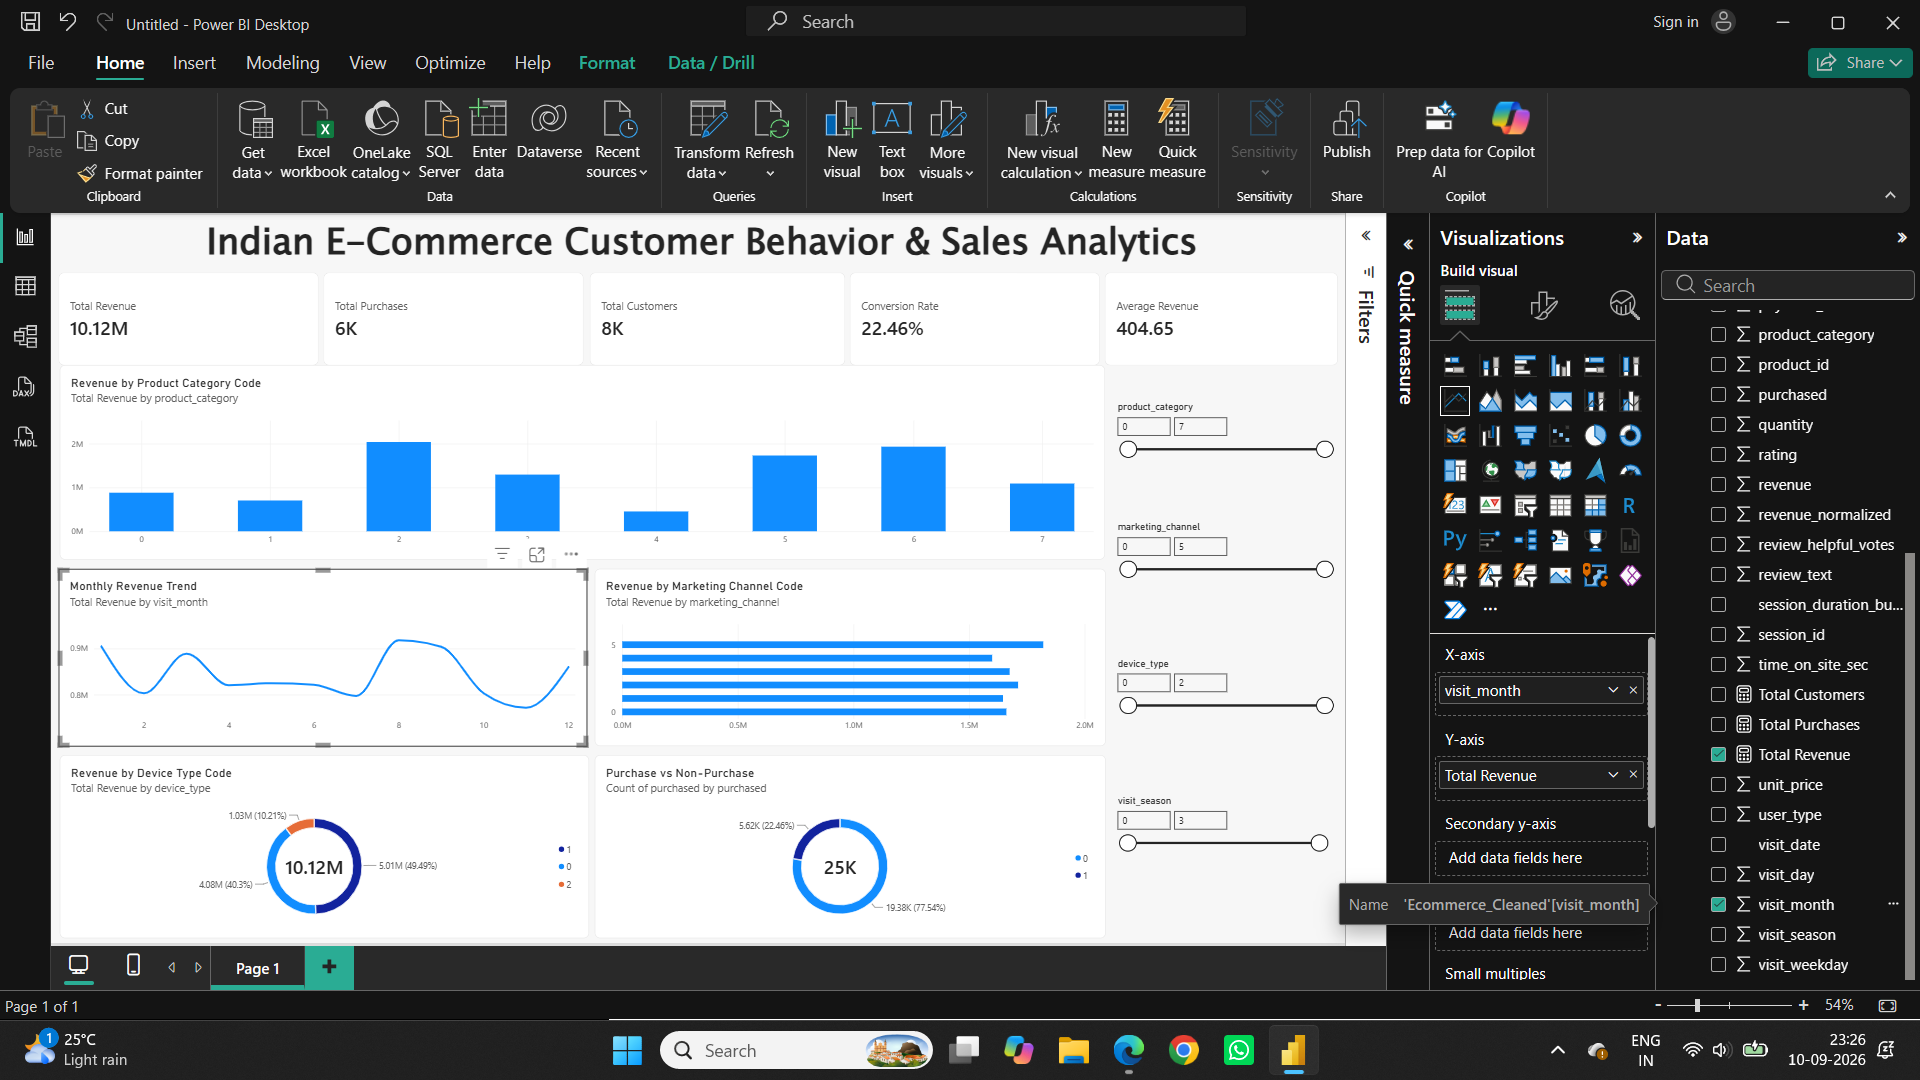

Layout of this report page (visuals, bound fields, positions):
{"tool":"powerbi","page":{"name":"Page 1","canvas":[1920,1080],"ordinal":0},"visuals":[{"type":"textbox","box":[10.3,0,1910.1,84.4],"z":0},{"type":"cardVisual","fields":{"Data":["Ecommerce_Cleaned.Total Revenue"]},"box":[11,84.7,386.5,138],"z":1000},{"type":"cardVisual","fields":{"Data":["Ecommerce_Cleaned.Total Purchases"]},"box":[404.9,84.7,386.5,138],"z":2000},{"type":"cardVisual","fields":{"Data":["Ecommerce_Cleaned.Total Customers"]},"box":[798.8,84.7,379.1,138],"z":3000},{"type":"cardVisual","fields":{"Data":["Ecommerce_Cleaned.Conversion Rate"]},"box":[1185.3,84.7,371.8,138],"z":4000},{"type":"cardVisual","fields":{"Data":["Ecommerce_Cleaned.Average Revenue"]},"box":[1564.4,84.7,346,138],"z":5000},{"type":"clusteredColumnChart","title":"Revenue by Product Category Code","fields":{"Category":["Ecommerce_Cleaned.product_category"],"Y":["Ecommerce_Cleaned.Total Revenue"]},"box":[12.9,222.7,1551.5,289],"z":6000},{"type":"lineChart","title":"Monthly Revenue Trend","fields":{"Category":["Ecommerce_Cleaned.visit_month"],"Y":["Ecommerce_Cleaned.Total Revenue"]},"box":[11,524.5,784.1,263.2],"z":7000},{"type":"barChart","title":"Revenue by Marketing Channel Code","fields":{"Category":["Ecommerce_Cleaned.marketing_channel"],"Y":["Ecommerce_Cleaned.Total Revenue"]},"box":[806.1,524.5,758.3,263.2],"z":8000},{"type":"donutChart","title":"Revenue by Device Type Code","fields":{"Category":["Ecommerce_Cleaned.device_type"],"Y":["Ecommerce_Cleaned.Total Revenue"]},"box":[12.9,800.6,785.9,272.4],"z":9000},{"type":"donutChart","title":"Purchase vs Non-Purchase","fields":{"Category":["Ecommerce_Cleaned.purchased"],"Y":["CountNonNull(Ecommerce_Cleaned.purchased)"]},"box":[806.1,800.6,758.3,272.4],"z":10000},{"type":"slicer","fields":{"Values":["Ecommerce_Cleaned.product_category"]},"box":[1575.5,276.1,331.3,145.4],"z":11000},{"type":"slicer","fields":{"Values":["Ecommerce_Cleaned.marketing_channel"]},"box":[1575.5,454.6,331.3,169.3],"z":12000},{"type":"slicer","fields":{"Values":["Ecommerce_Cleaned.device_type"]},"box":[1575.5,657.1,331.3,160.1],"z":13000},{"type":"slicer","fields":{"Values":["Ecommerce_Cleaned.visit_season"]},"box":[1575.5,861.4,323.9,160.1],"z":14000}]}

Visuals, with their boxes on the page's 1920x1080 design canvas (x1, y1, x2, y2). These are canvas units, not pixel positions in the 1920x1080 screenshot, which may show the page scaled, cropped or inside an application window:
textbox: BBox(10, 0, 1920, 84)
cardVisual - Ecommerce_Cleaned.Total Revenue: BBox(11, 85, 398, 223)
cardVisual - Ecommerce_Cleaned.Total Purchases: BBox(405, 85, 791, 223)
cardVisual - Ecommerce_Cleaned.Total Customers: BBox(799, 85, 1178, 223)
cardVisual - Ecommerce_Cleaned.Conversion Rate: BBox(1185, 85, 1557, 223)
cardVisual - Ecommerce_Cleaned.Average Revenue: BBox(1564, 85, 1910, 223)
"Revenue by Product Category Code" clusteredColumnChart: BBox(13, 223, 1564, 512)
"Monthly Revenue Trend" lineChart: BBox(11, 524, 795, 788)
"Revenue by Marketing Channel Code" barChart: BBox(806, 524, 1564, 788)
"Revenue by Device Type Code" donutChart: BBox(13, 801, 799, 1073)
"Purchase vs Non-Purchase" donutChart: BBox(806, 801, 1564, 1073)
slicer - Ecommerce_Cleaned.product_category: BBox(1576, 276, 1907, 422)
slicer - Ecommerce_Cleaned.marketing_channel: BBox(1576, 455, 1907, 624)
slicer - Ecommerce_Cleaned.device_type: BBox(1576, 657, 1907, 817)
slicer - Ecommerce_Cleaned.visit_season: BBox(1576, 861, 1899, 1022)
